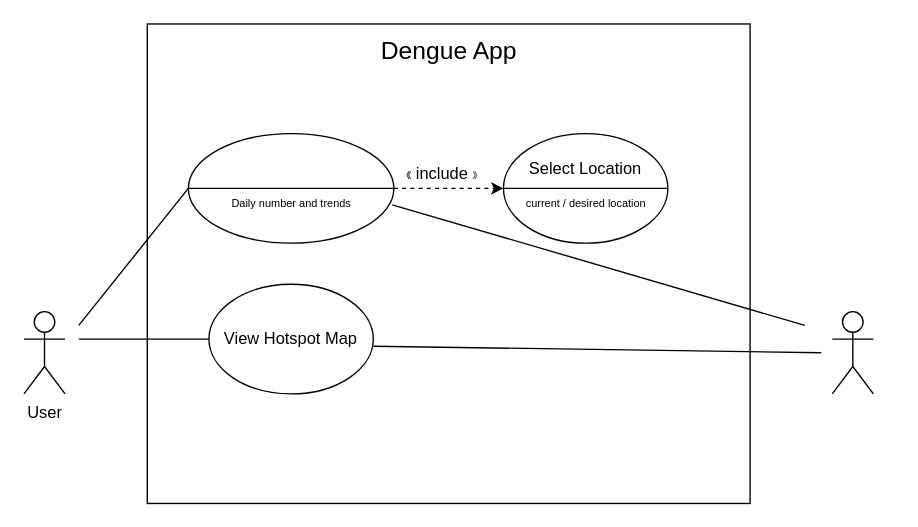
This 918x527 diagram has some shape labels left out. Here are the shapes that lost their labels. From the top down, the box of each, then its label:
(187, 132, 394, 243): Check Dengue Statistics
(831, 310, 873, 394): data.gov.sg
